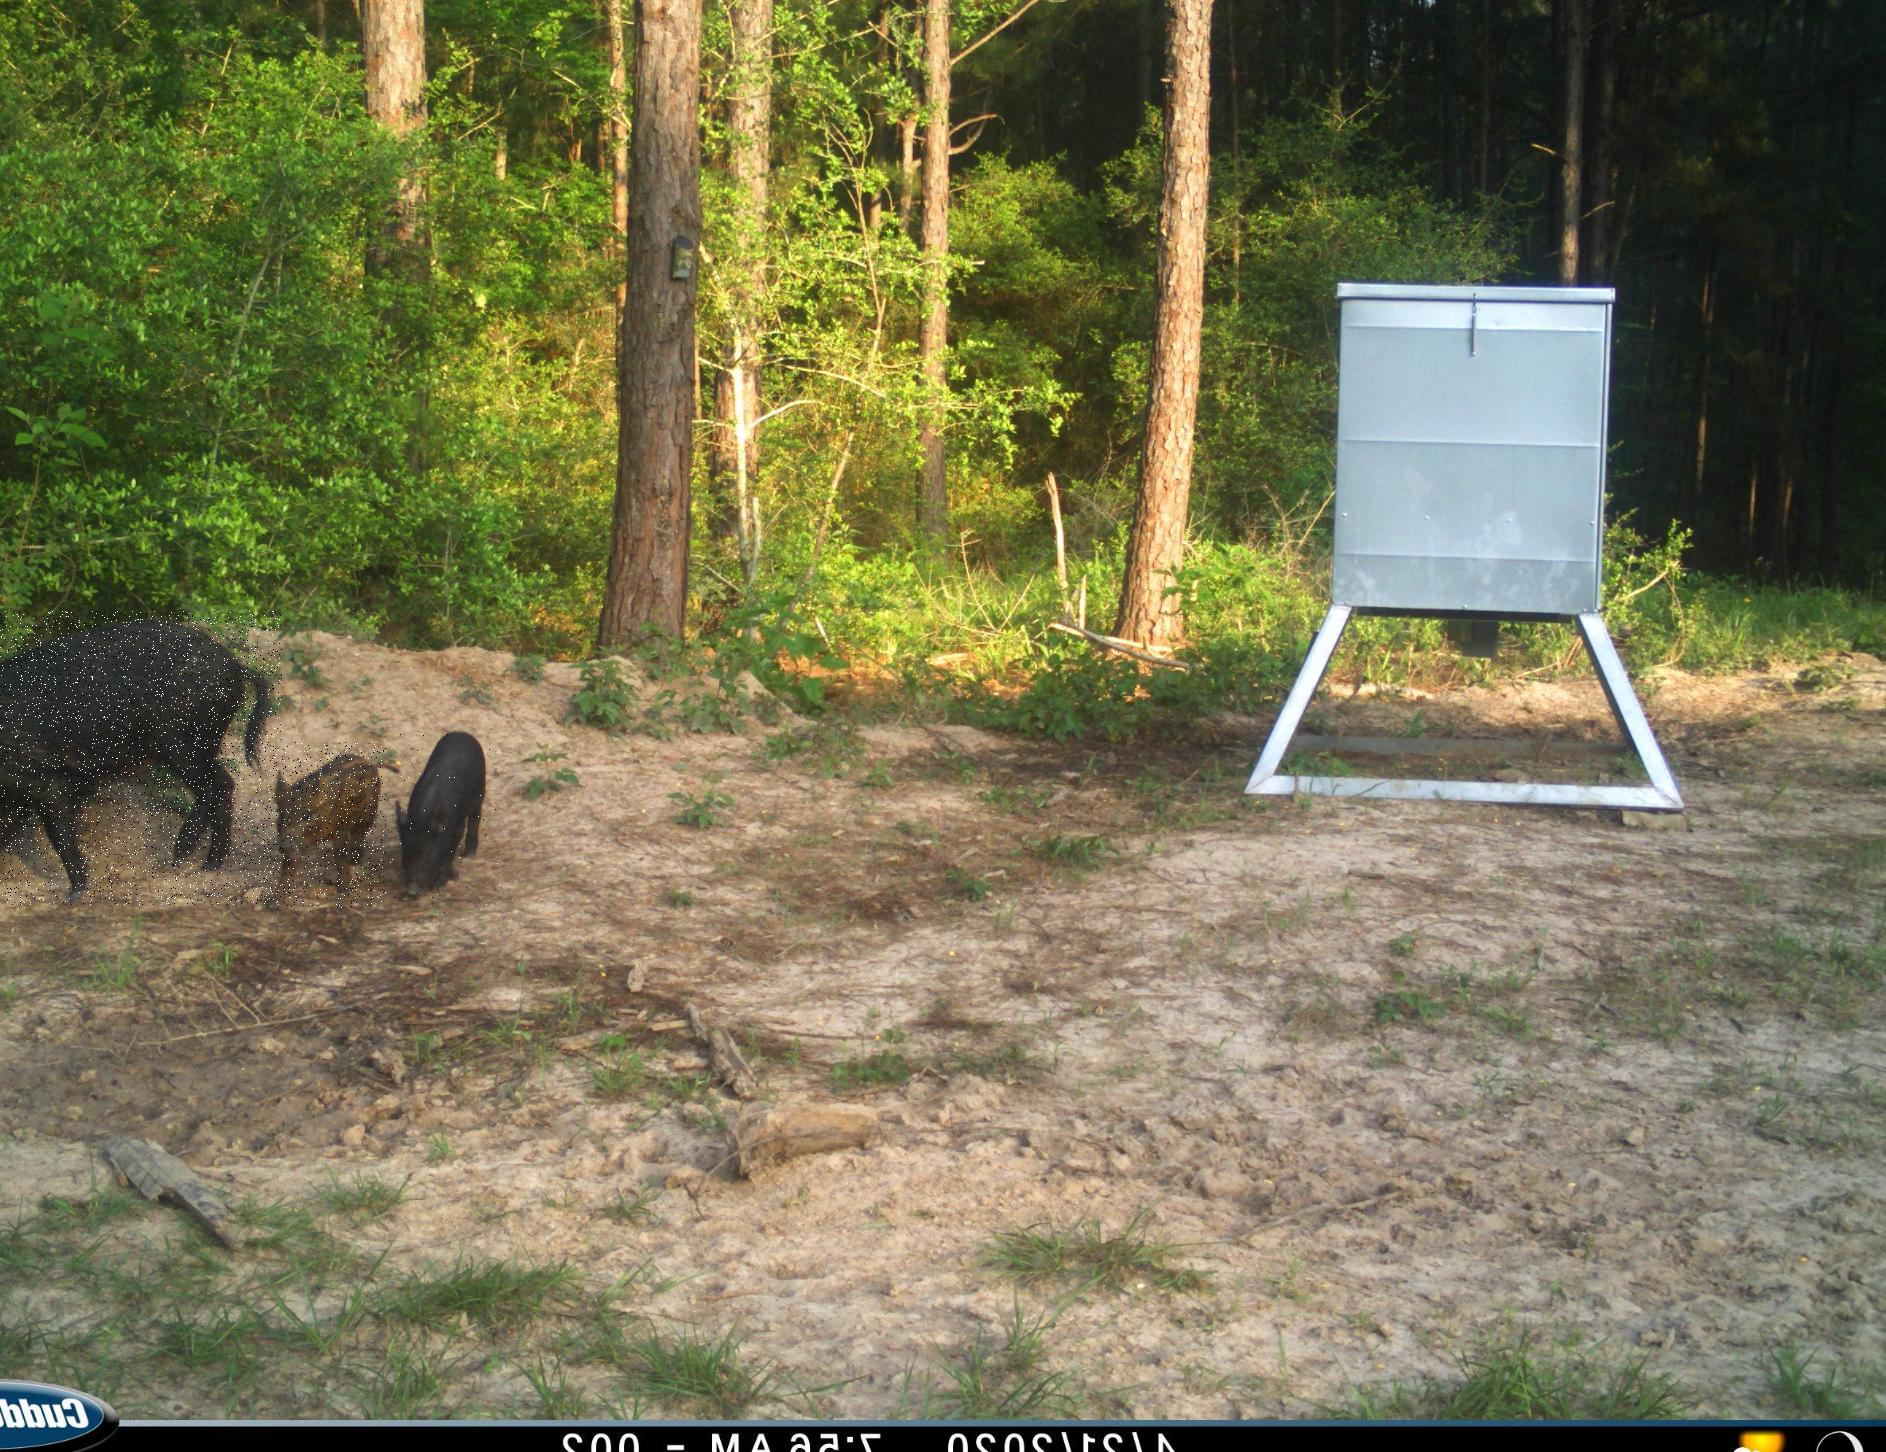Hog: (0, 612, 282, 904), (383, 729, 500, 915), (262, 741, 386, 907)
